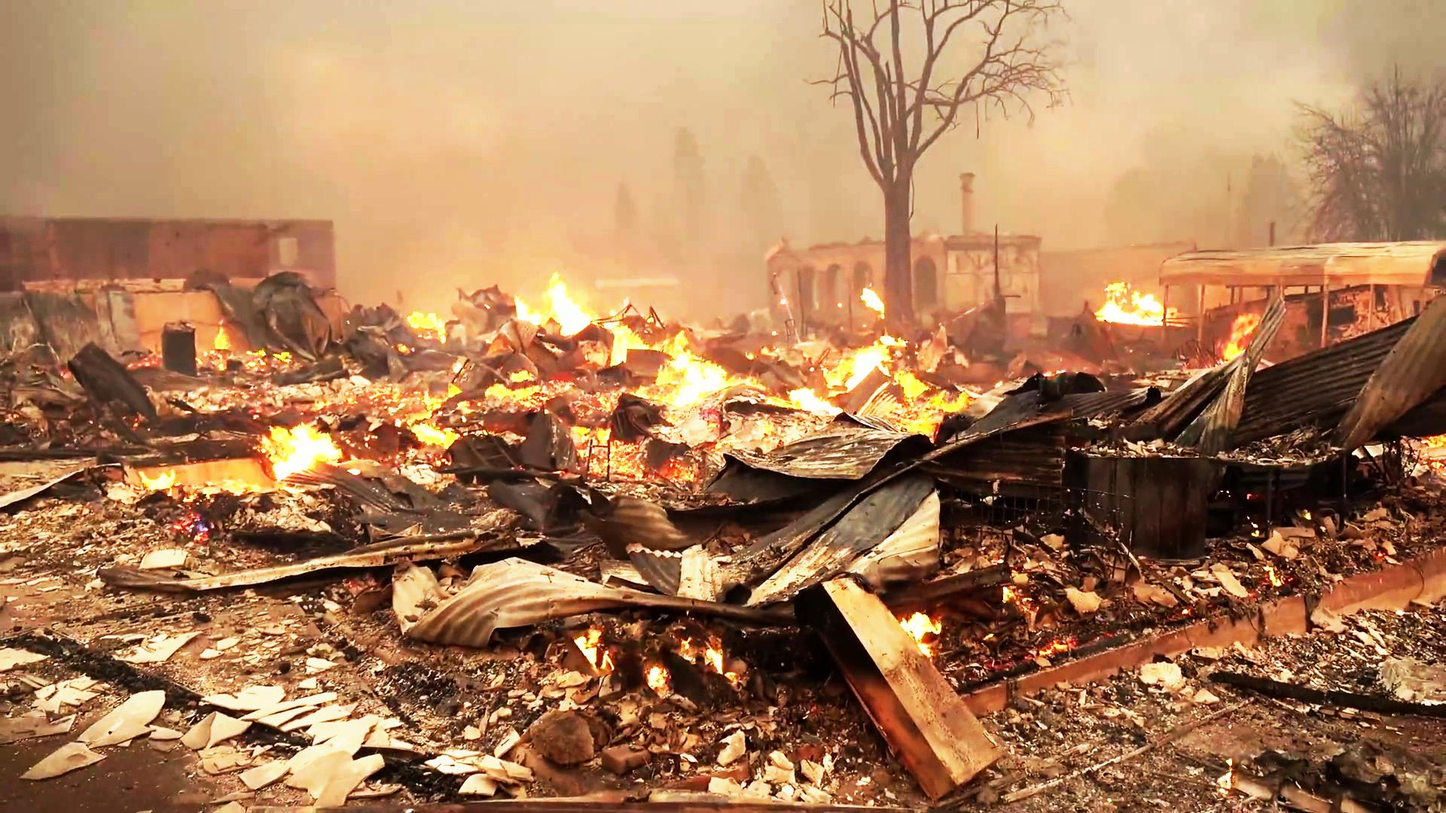fire: (796, 326, 914, 413), (627, 333, 746, 414), (1096, 266, 1188, 332), (256, 420, 346, 472), (518, 273, 591, 333)
smoke: (19, 2, 734, 198), (1107, 4, 1303, 148)
